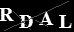A: (39, 12, 53, 26)
D: (18, 14, 33, 28)
L: (57, 14, 72, 29)
R: (1, 7, 13, 21)
